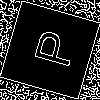P: (24, 25, 78, 70)
